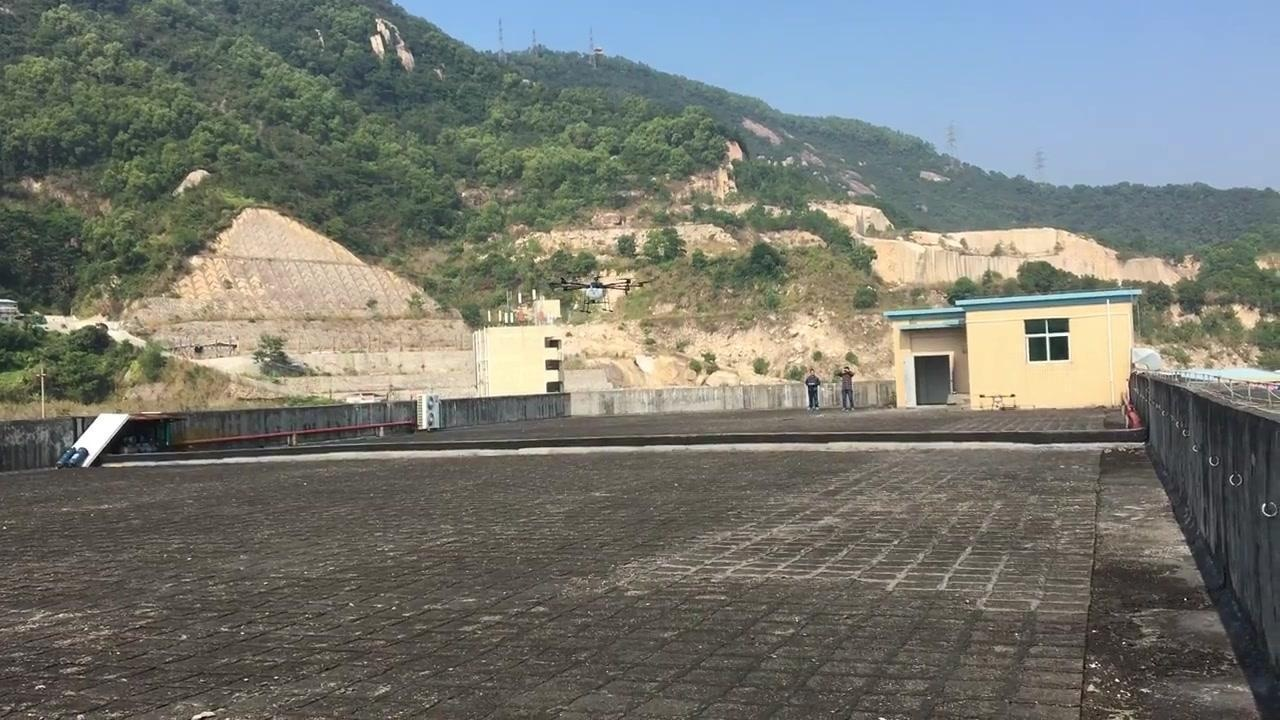UAV: (550, 276, 653, 315)
